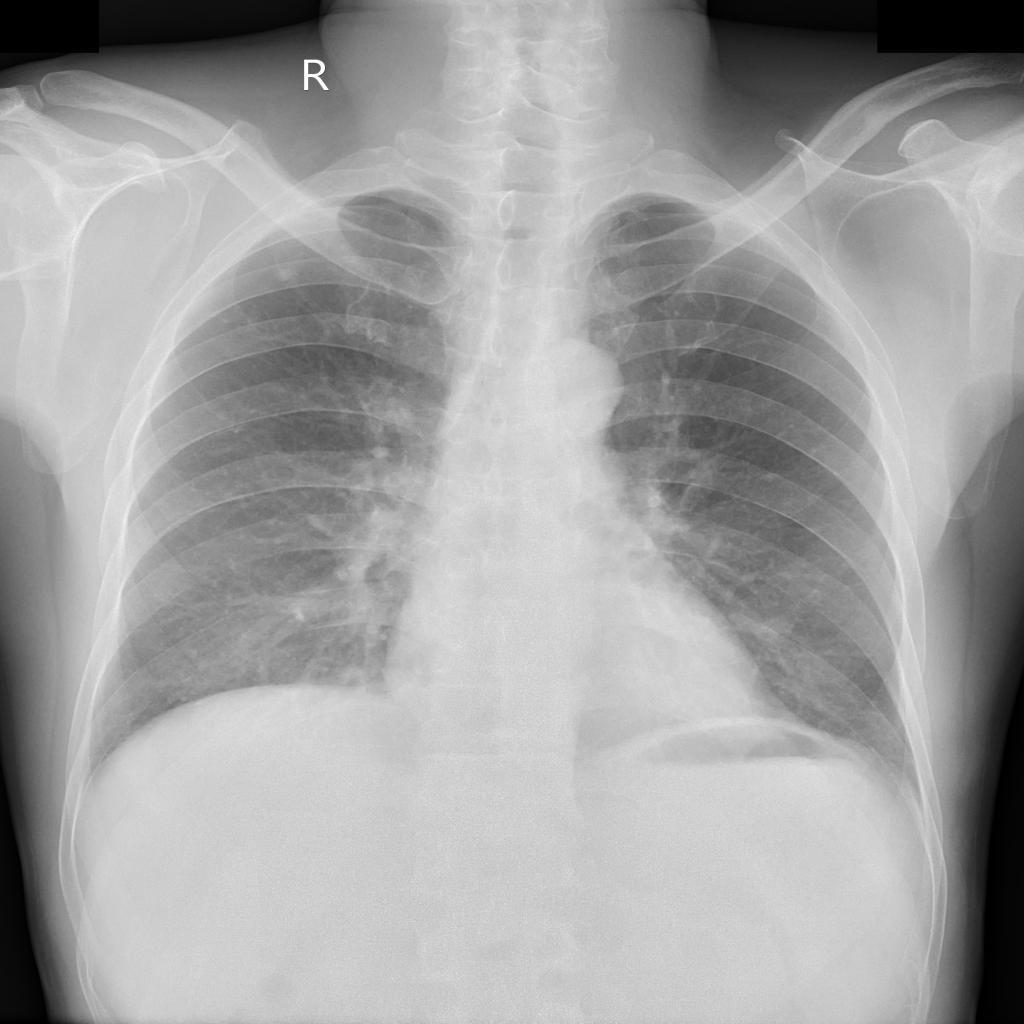Nodule: (277, 268, 294, 282)
